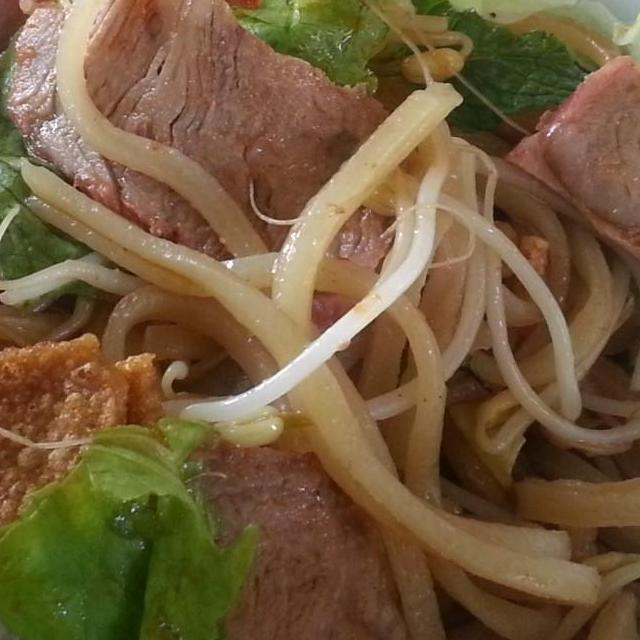banh da: (0, 328, 182, 561)
mi: (4, 76, 506, 469), (356, 146, 640, 640)
mi quang: (0, 0, 640, 640)
thit heo: (0, 0, 438, 355), (127, 417, 449, 640), (496, 52, 640, 309), (0, 489, 98, 640), (0, 0, 94, 141)
